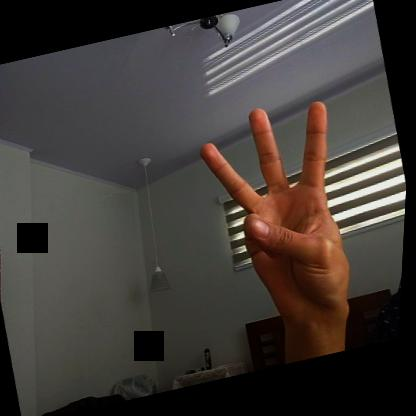W: (183, 92, 376, 340)
